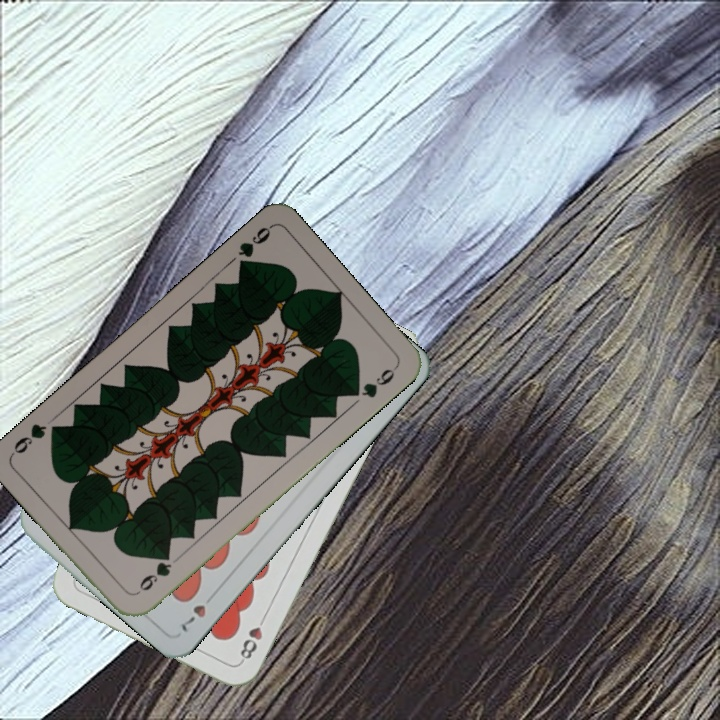G9: (132, 549, 175, 598), (234, 222, 274, 274)
H7: (177, 587, 219, 635)
H8: (236, 610, 269, 665)
